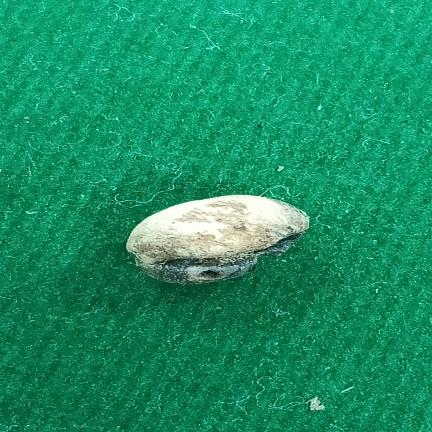partial-black: (126, 195, 309, 284)
